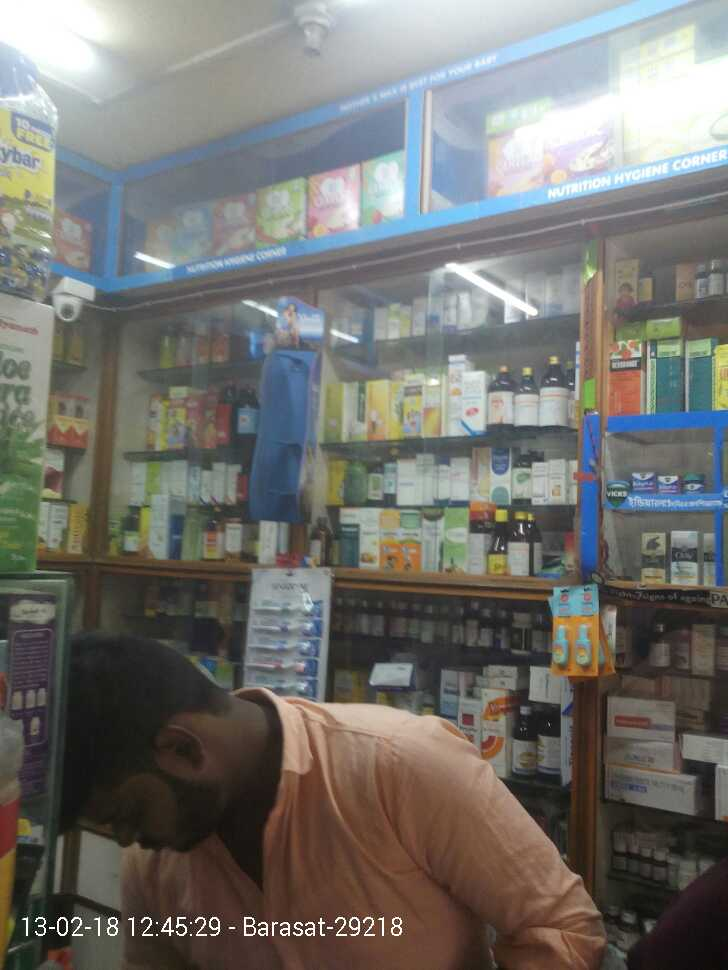beauty: (671, 530, 701, 587), (640, 533, 669, 589)
pharmacy: (631, 471, 654, 493), (657, 475, 675, 493), (684, 475, 700, 492)
